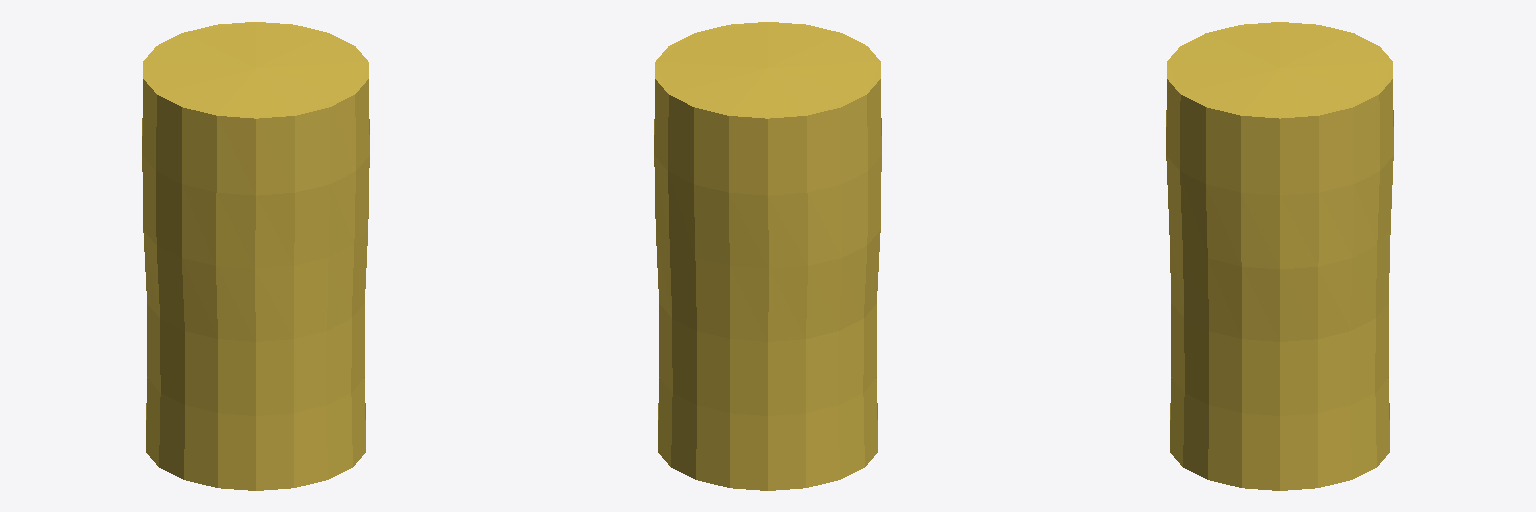
The model's file is wood.obj.
3 renders of one model, left to right at view 1: azimuth 30°, elevation 25°; view 2: azimuth 150°, elevation 25°; view 3: azimuth 270°, elevation 25°, orthographic.
Parts seen in each view (by area): view 1: wood; view 2: wood; view 3: wood.
Boxes of the visible parts, box(x1,y1,x2,y2) form: wood: box(142, 22, 369, 490); wood: box(654, 22, 881, 490); wood: box(1166, 22, 1393, 490).
Size of the model in its own units: 50.75 by 91.05 by 49.98.